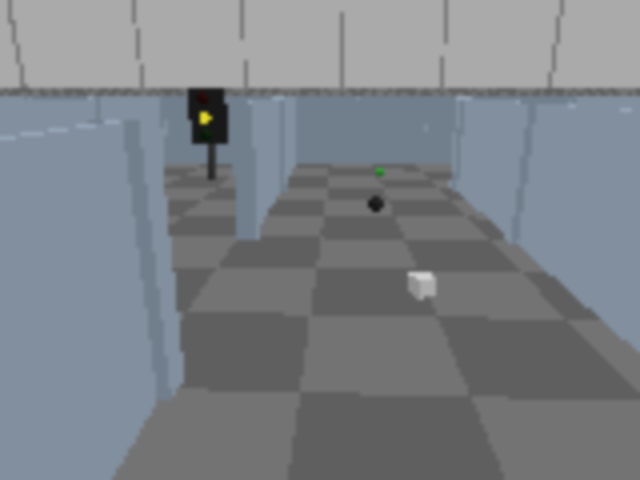puck: (407, 270, 436, 299), (367, 195, 385, 214)
traffic_light: (187, 83, 230, 182)
